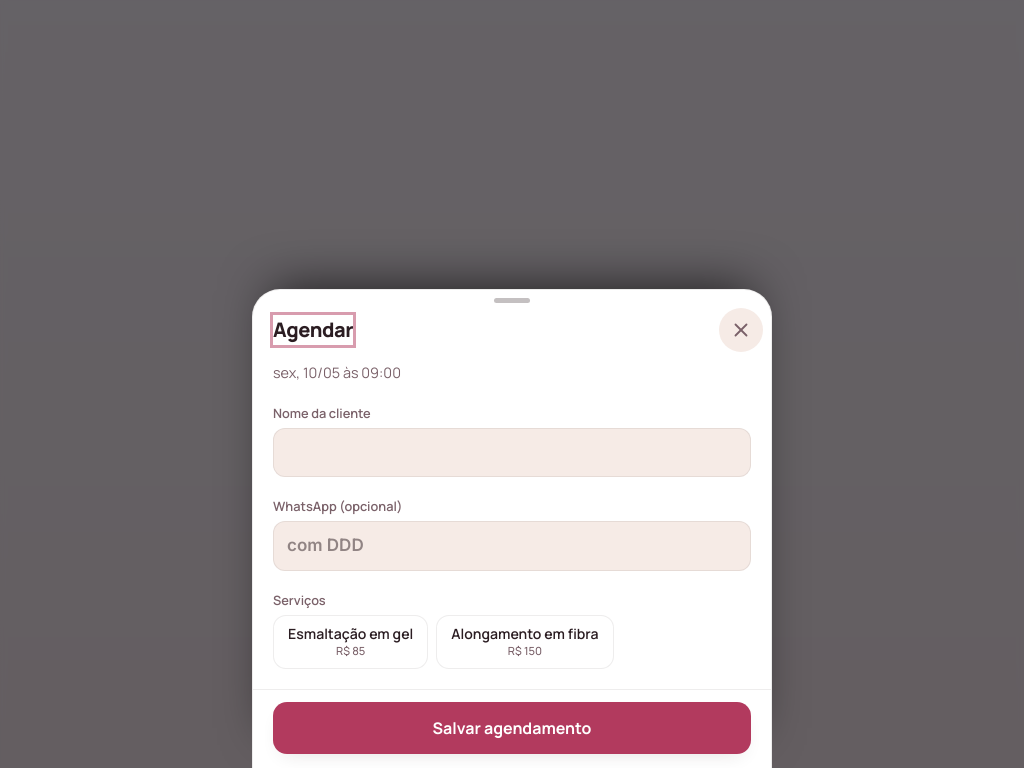
it: FolhaAgendar › sem nome, mostra erro e não salva
The image size is (1024, 768).
Click the button "Esmaltação em gel R$ 85".
click(351, 642)  # box [273,615,428,669]
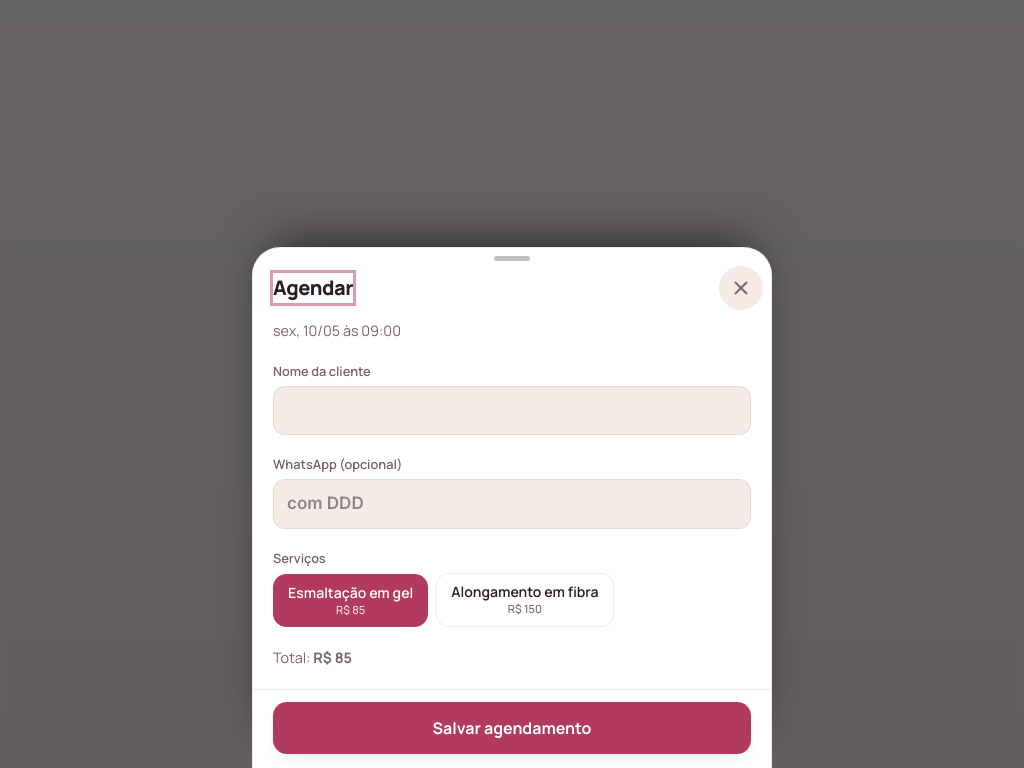
Click the button "Salvar agendamento".
click(512, 728)  # box [273,702,751,754]
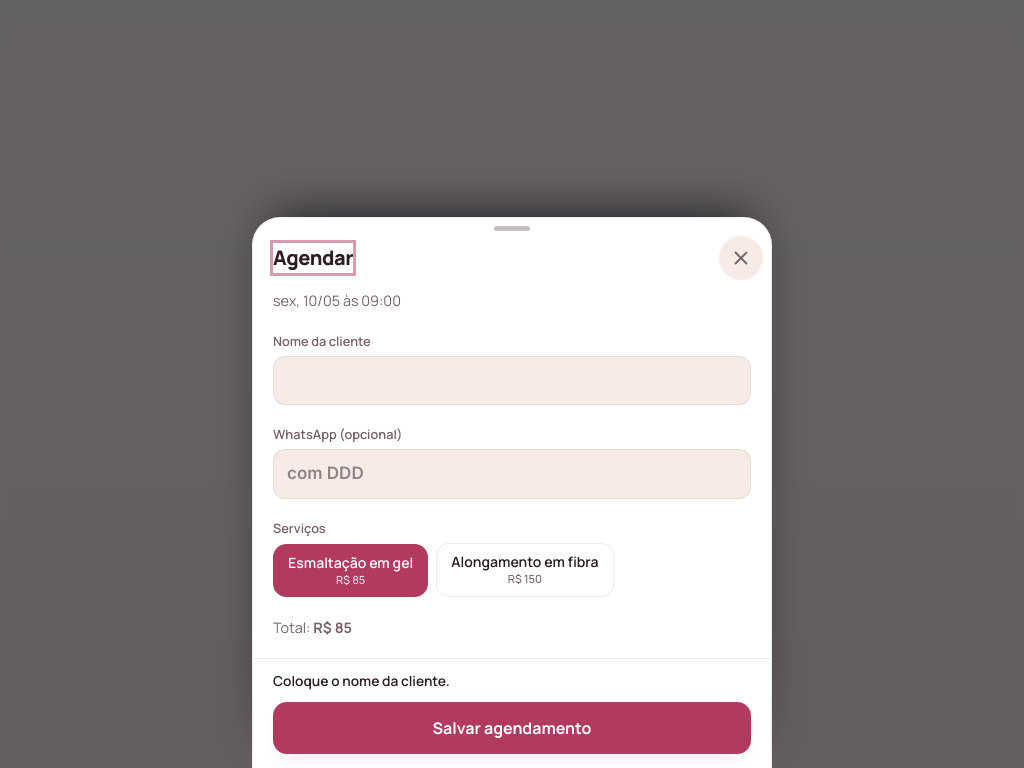
Result: the text "Coloque o nome da cliente." is shown at [273,671,450,690]
